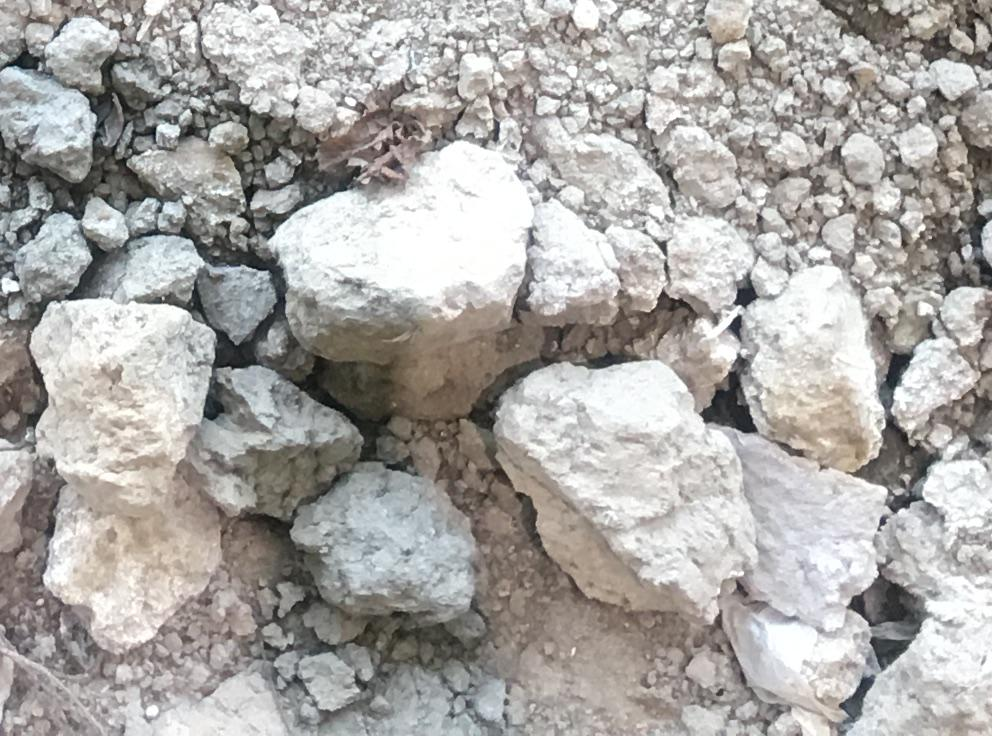block: (490, 360, 729, 629), (267, 146, 532, 352), (24, 300, 209, 508), (699, 415, 881, 619), (732, 265, 893, 475), (288, 457, 478, 630), (41, 479, 220, 653), (192, 356, 365, 526), (723, 596, 861, 713)
